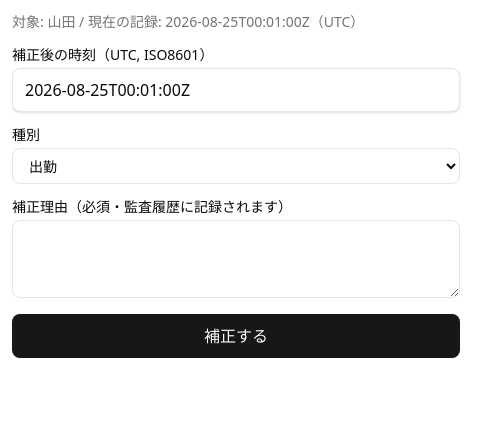
Test: CorrectPunchForm › アクションがエラーを返すと表示する
Type "x" into the text box labelled "補正理由（必須・監査履歴に記録されます）" at (236, 259), box x1=12 y1=220 x2=460 y2=298
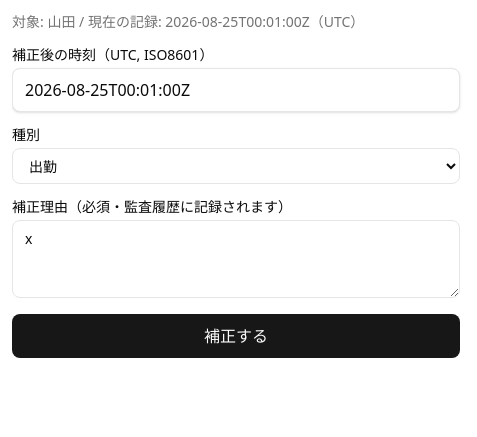
Click the button "補正する" at (236, 336), box x1=12 y1=314 x2=460 y2=358
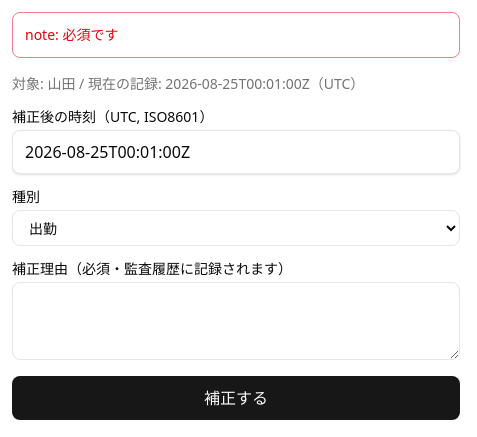
Result: the message reads "note: 必須です" at x1=25 y1=25 x2=118 y2=44
